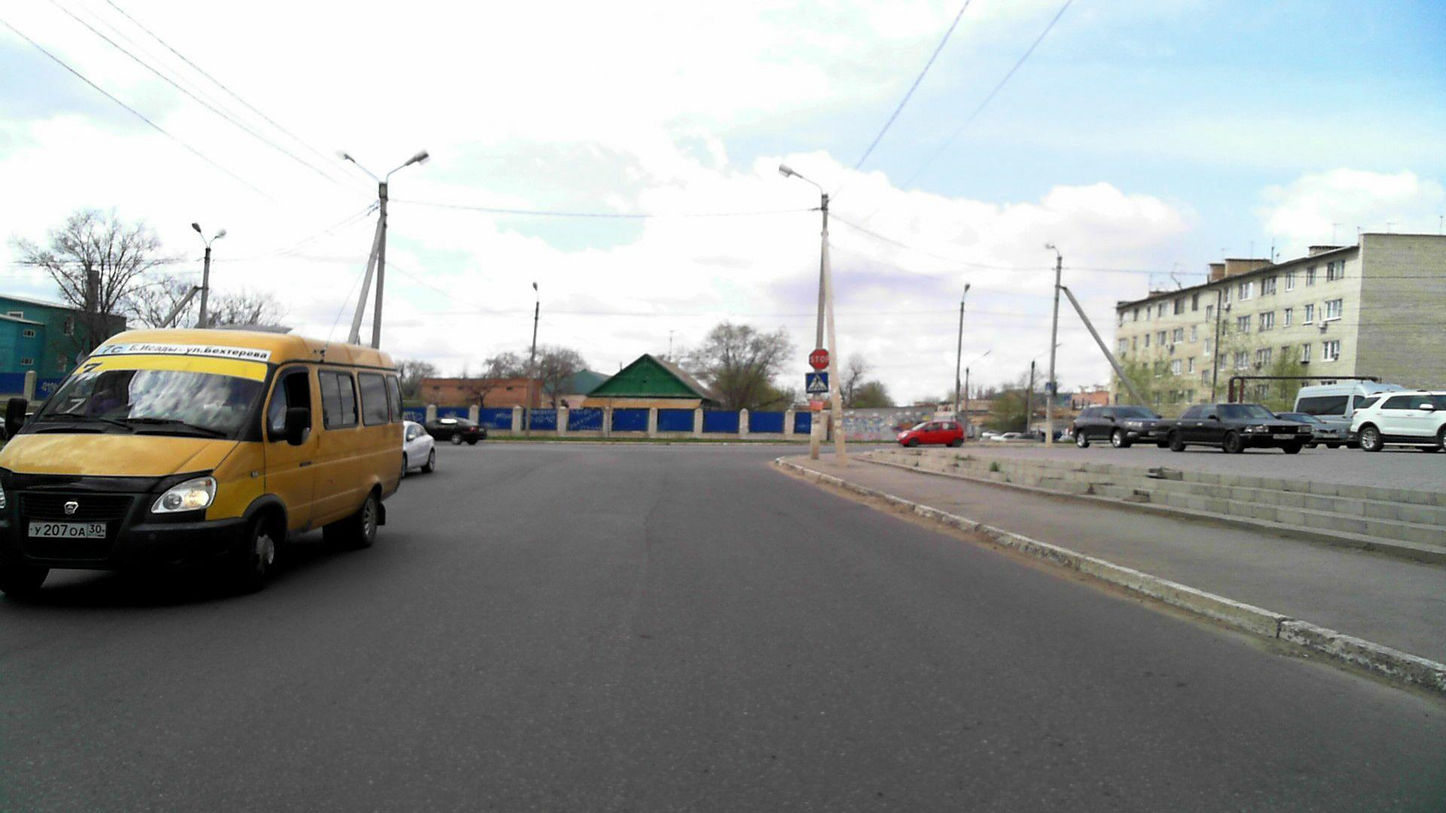road_sign: (805, 372, 829, 393), (809, 348, 829, 370)
